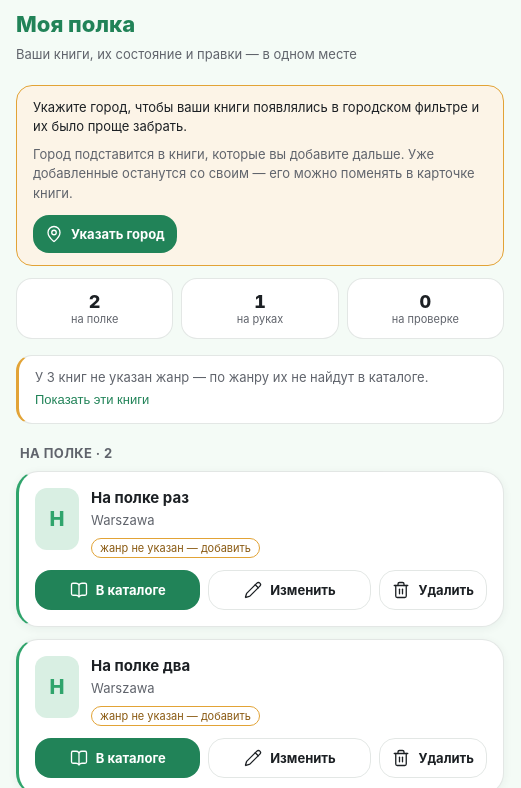
счётчики на «Моей полке» › нажатие на счётчик фильтрует полку, повторное — снимает фильтр
Expected: the text "На полке раз" is shown, [91,488,189,507]
Click the button with aria-label "На руках: 1": [260, 308] box [181,278,339,339]
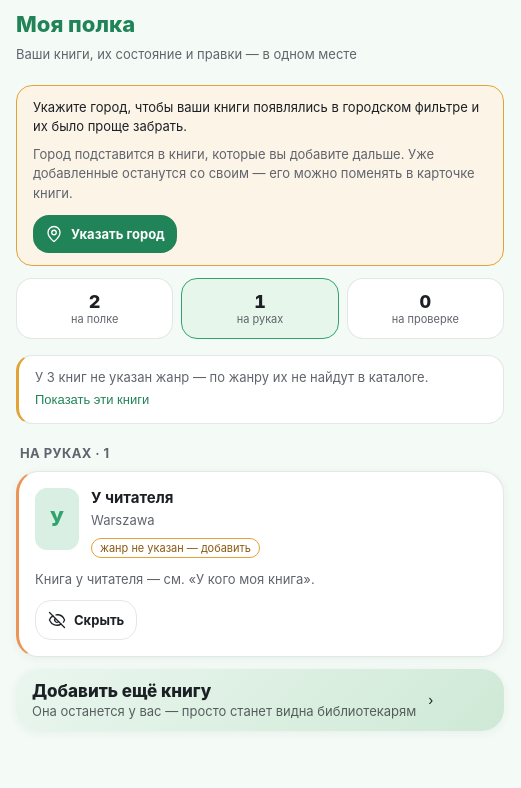
Expected: the text "У читателя" is shown, [91,488,173,507]
Expected: the text "На полке раз" is gone
Click the button with aria-label "На руках: 1": [260, 308] box [181,278,339,339]
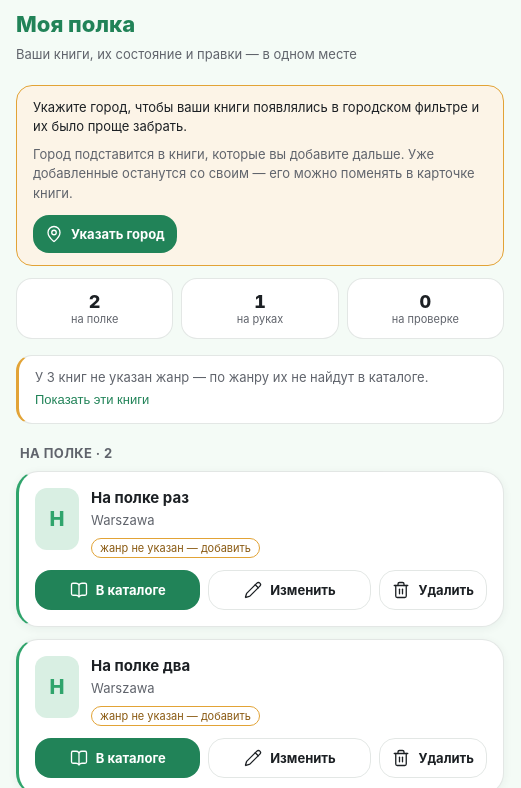
Expected: the text "На полке раз" is shown, [91,488,189,507]
